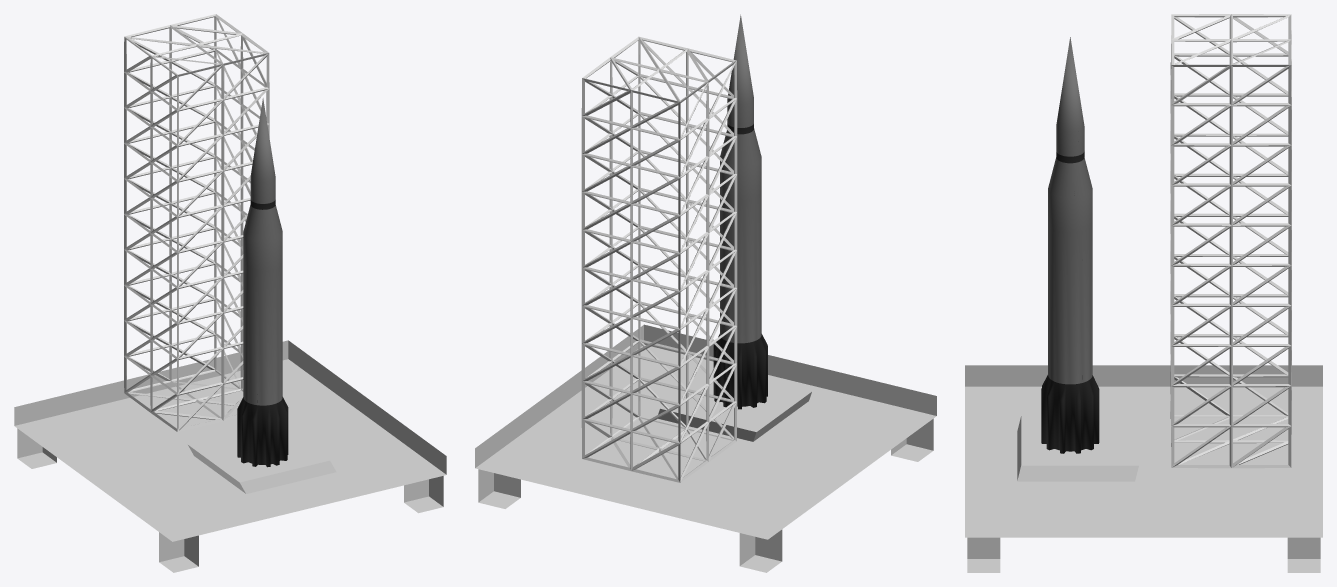
The picture shows the model from 3 angles, left to right: view 1: azimuth 30°, elevation 25°; view 2: azimuth 150°, elevation 25°; view 3: azimuth 270°, elevation 25°; orthographic projection. The views are drawn at different scales.
Visible parts, largest first — view 1: Plane, Plane.002, Cylinder, Plane.001; view 2: Plane, Plane.002, Cylinder, Plane.001; view 3: Plane, Plane.002, Cylinder, Plane.001.
Boxes of the visible parts, x1,y1,x2,y2 form: Plane: (14, 340, 446, 541); Plane.002: (124, 14, 269, 431); Cylinder: (237, 98, 288, 467); Plane.001: (17, 428, 443, 572); Plane: (475, 324, 936, 539); Plane.002: (581, 36, 737, 482); Cylinder: (713, 14, 767, 409); Plane.001: (478, 418, 933, 572); Plane: (965, 365, 1322, 537); Plane.002: (1170, 14, 1291, 468); Cylinder: (1041, 37, 1099, 453); Plane.001: (967, 537, 1320, 572).
Bounding box in the file's own units: 100 × 143 × 100.
1 material, 1 textured.
